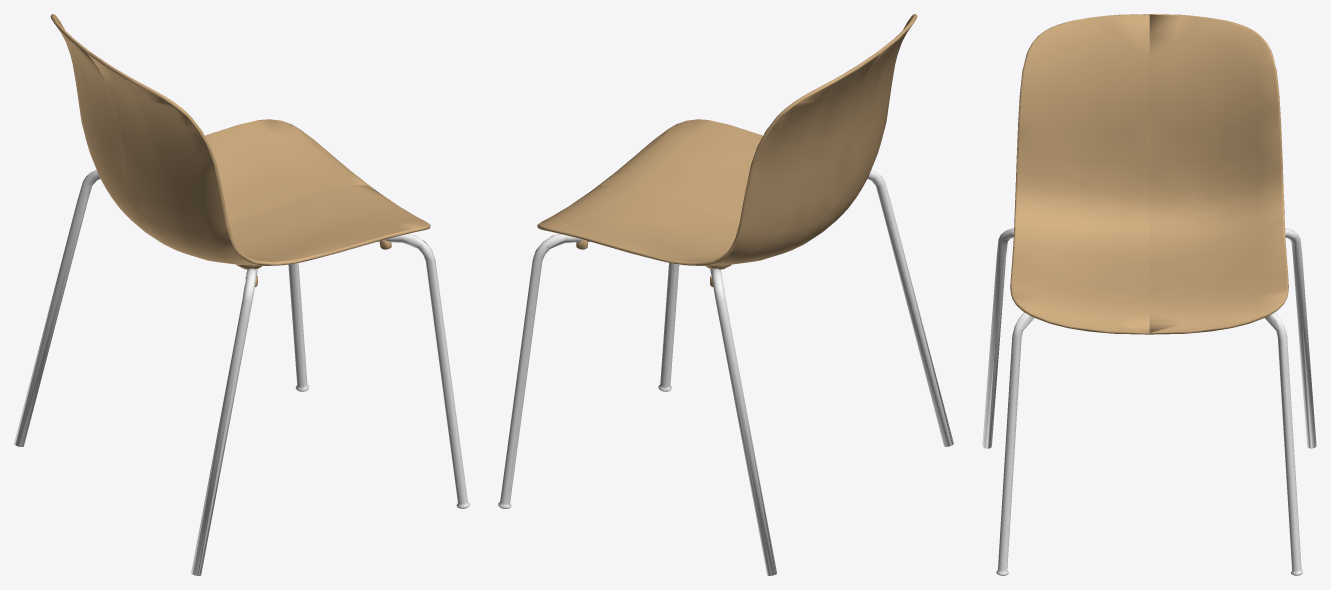
The model's file is HMI_Troy_Wood_Chair_3D.fbx.
3 views of the same model, side by side, from view 1: azimuth 30°, elevation 25°; view 2: azimuth 150°, elevation 25°; view 3: azimuth 270°, elevation 25° (orthographic). The views are drawn at different scales.
Parts seen in each view (by area): view 1: Group1; view 2: Group1; view 3: Group1.
Boxes of the visible parts, x1,y1,x2,y2 form: Group1: (14,14,469,575); Group1: (498,14,953,575); Group1: (982,14,1316,575).
Size of the model in its own units: 254 by 378 by 266.
